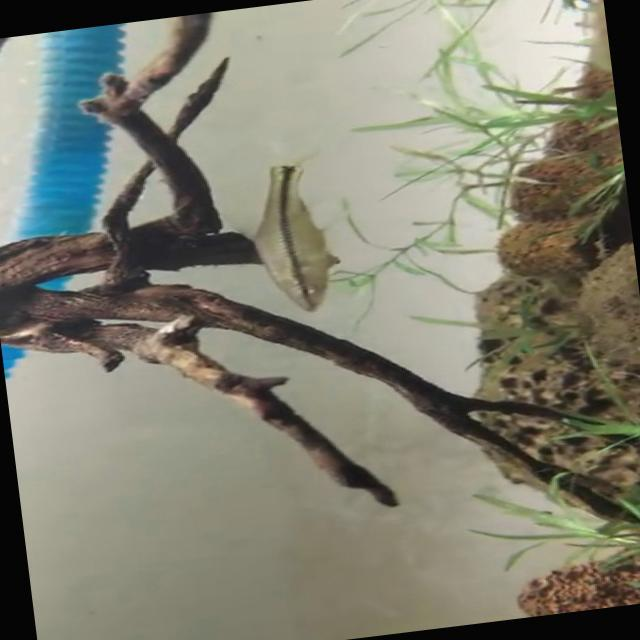Cakil Baligi: (222, 150, 344, 318)
